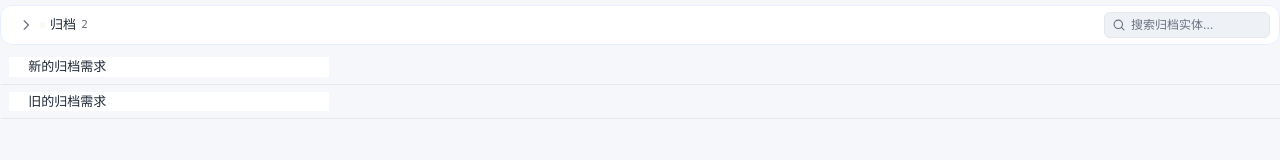
Test: StageSection › 终态区域按名称搜索过滤需求行，且按最近流转时间倒序排列
Expected: the elements "归档需求" read "新的归档需求", "旧的归档需求", in this order, [28, 57, 106, 76]; [28, 92, 106, 111]
Type "旧的" into the field with placeholder "搜索归档实体…" at point(1197, 25), box [1131, 16, 1262, 34]
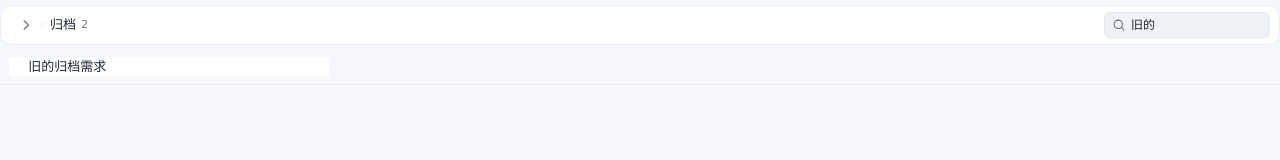
Expected: the text "旧的归档需求" is shown, [28, 57, 106, 76]
Expected: the button "新的归档需求" is gone
